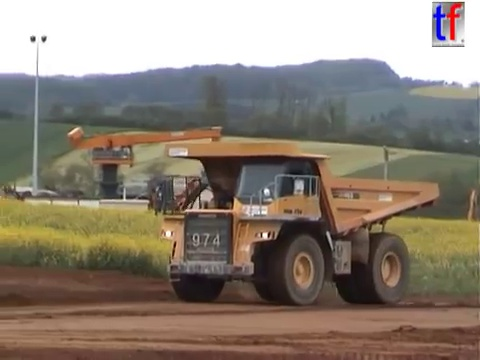crane: (64, 121, 225, 202)
excavator: (463, 187, 480, 231)
truck: (144, 140, 442, 307)
